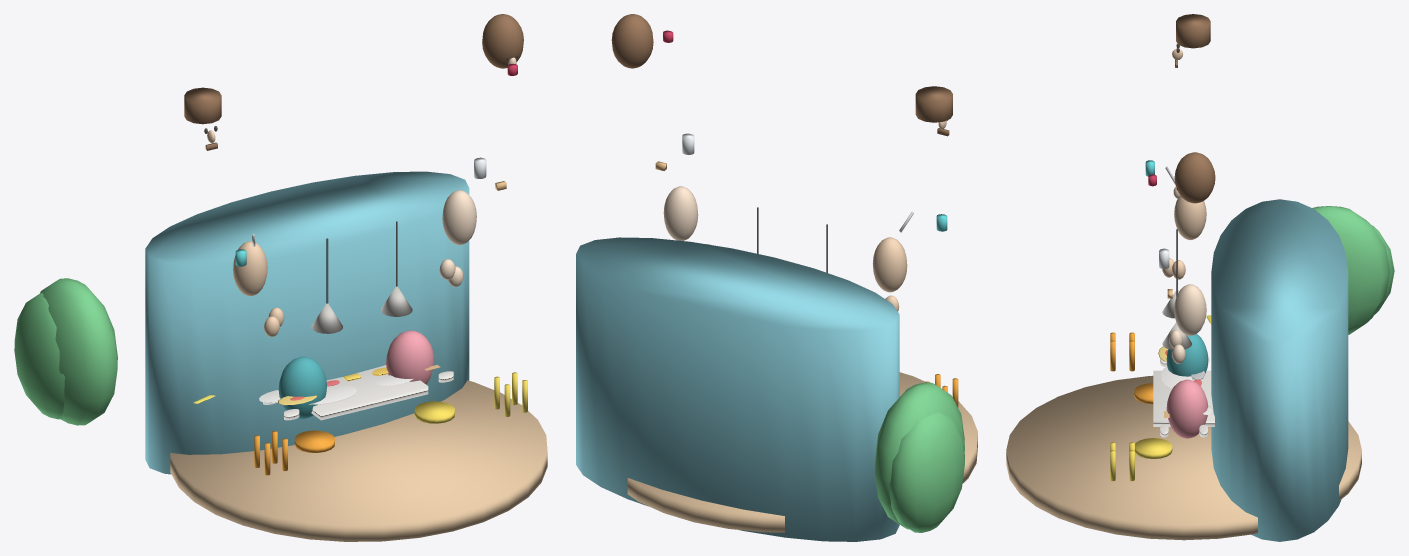
Rendered from diorama.glb.
3 renders of one model, left to right at view 1: azimuth 30°, elevation 25°; view 2: azimuth 150°, elevation 25°; view 3: azimuth 270°, elevation 25°, orthographic. The views are drawn at different scales.
Parts seen in each view (by area): view 1: Cylinder, PLATFORM, Sphere.014, Sphere.013, TABLE, CHARACTER_RIGHT, CHARACTER_LEFT, Sphere.004, HEAD_RIGHT, HEAD_LEFT, Cylinder.013, CHAIR_RIGHT (+1 smaller); view 2: Cylinder, Sphere.013, PLATFORM, Sphere.014, Sphere.004, HEAD_LEFT, HEAD_RIGHT, Cylinder.013; view 3: Cylinder, PLATFORM, Sphere.014, CHARACTER_RIGHT, Sphere.004, HEAD_RIGHT, TABLE, Cylinder.013, HEAD_LEFT, CHARACTER_LEFT, CHAIR_RIGHT.
Part boxes in pixels (left/top/right/bottom): Cylinder: left=145, top=171, right=469, bottom=474; PLATFORM: left=170, top=380, right=547, bottom=541; Sphere.014: left=40, top=278, right=117, bottom=425; Sphere.013: left=14, top=292, right=64, bottom=419; TABLE: left=311, top=365, right=428, bottom=420; CHARACTER_RIGHT: left=386, top=330, right=434, bottom=384; CHARACTER_LEFT: left=278, top=356, right=326, bottom=418; Sphere.004: left=482, top=14, right=523, bottom=68; HEAD_RIGHT: left=442, top=190, right=476, bottom=245; HEAD_LEFT: left=233, top=241, right=267, bottom=296; Cylinder.013: left=184, top=87, right=221, bottom=124; CHAIR_RIGHT: left=414, top=401, right=454, bottom=423; Cylinder: left=576, top=237, right=899, bottom=541; Sphere.013: left=889, top=412, right=964, bottom=532; PLATFORM: left=627, top=372, right=977, bottom=532; Sphere.014: left=874, top=382, right=964, bottom=529; Sphere.004: left=611, top=14, right=653, bottom=68; HEAD_LEFT: left=872, top=237, right=907, bottom=292; HEAD_RIGHT: left=663, top=186, right=698, bottom=240; Cylinder.013: left=915, top=86, right=952, bottom=122; Cylinder: left=1211, top=199, right=1348, bottom=541; PLATFORM: left=1006, top=375, right=1361, bottom=540; Sphere.014: left=1312, top=206, right=1390, bottom=334; CHARACTER_RIGHT: left=1166, top=379, right=1208, bottom=438; Sphere.004: left=1174, top=152, right=1215, bottom=203; HEAD_RIGHT: left=1174, top=284, right=1206, bottom=335; TABLE: left=1153, top=370, right=1214, bottom=426; Cylinder.013: left=1176, top=14, right=1210, bottom=48; HEAD_LEFT: left=1174, top=196, right=1206, bottom=240; CHARACTER_LEFT: left=1166, top=334, right=1208, bottom=376; CHAIR_RIGHT: left=1135, top=438, right=1172, bottom=458.
Size of the model in its own units: 6.63 by 6.21 by 5.68.
